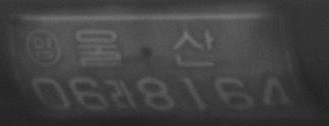0: (29, 75, 71, 111)
1: (176, 75, 211, 113)
4: (260, 74, 297, 111)
6: (213, 75, 255, 111), (72, 76, 109, 112)
8: (138, 75, 175, 113)
라: (110, 76, 138, 111)
영: (25, 27, 62, 67)
울산_D: (74, 25, 215, 69)
